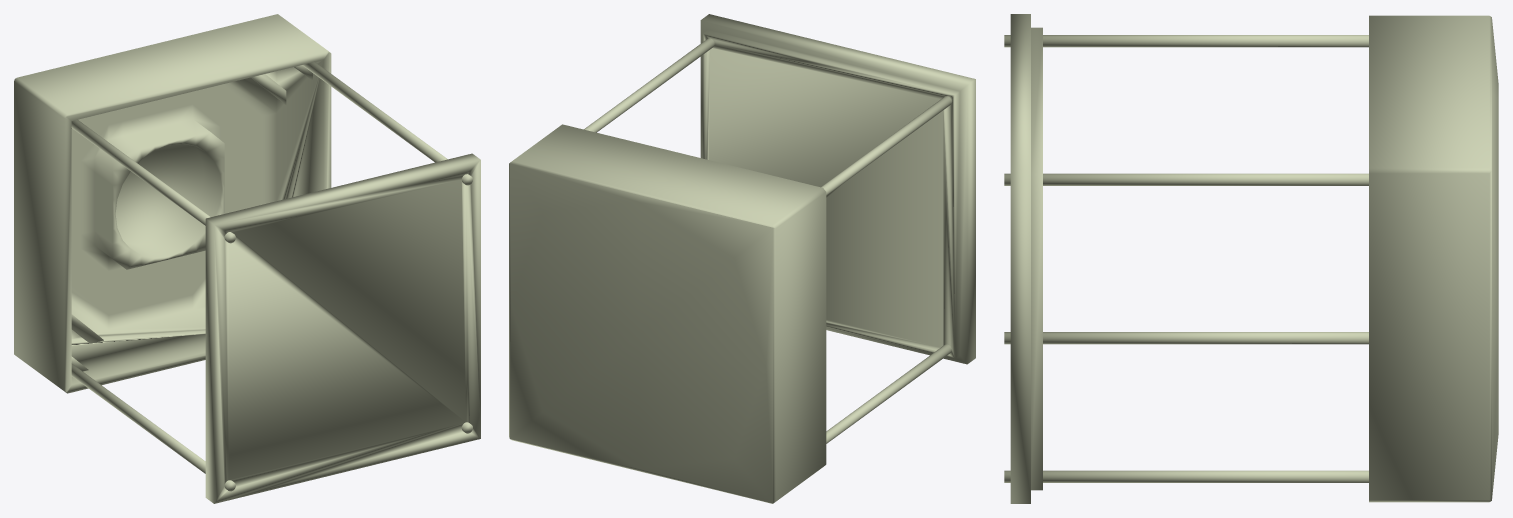
The model's file is radio-box-0002.obj.
3 views of the same model, side by side, from view 1: azimuth 30°, elevation 25°; view 2: azimuth 150°, elevation 25°; view 3: azimuth 270°, elevation 25° (orthographic). The views are drawn at different scales.
Parts seen in each view (by area): view 1: Cube5, Cube6, Cylinder7_copy10, Cylinder7_copy8, Cylinder7; view 2: Cube5, Cube6, Cylinder7_copy8, Cylinder7_copy10, Cylinder7; view 3: Cube5, Cube6, Cylinder7_copy10, Cylinder7_copy9, Cylinder7_copy8, Cylinder7.
Boxes of the visible parts, x1,y1,x2,y2 form: Cube5: (14,14,331,393); Cube6: (205,153,480,503); Cylinder7_copy10: (71,363,235,491); Cylinder7_copy8: (71,119,235,243); Cylinder7: (302,62,472,185); Cube5: (509,124,826,503); Cube6: (700,14,975,364); Cylinder7_copy8: (821,96,951,195); Cylinder7_copy10: (826,344,951,443); Cylinder7: (584,38,714,132); Cube5: (1369,15,1498,502); Cube6: (1010,14,1042,503); Cylinder7_copy10: (1004,332,1368,344); Cylinder7_copy9: (1004,470,1368,482); Cylinder7_copy8: (1004,35,1368,47); Cylinder7: (1004,173,1368,185).
Bounding box in the file's own units: 3.6 × 3.6 × 4.82.
